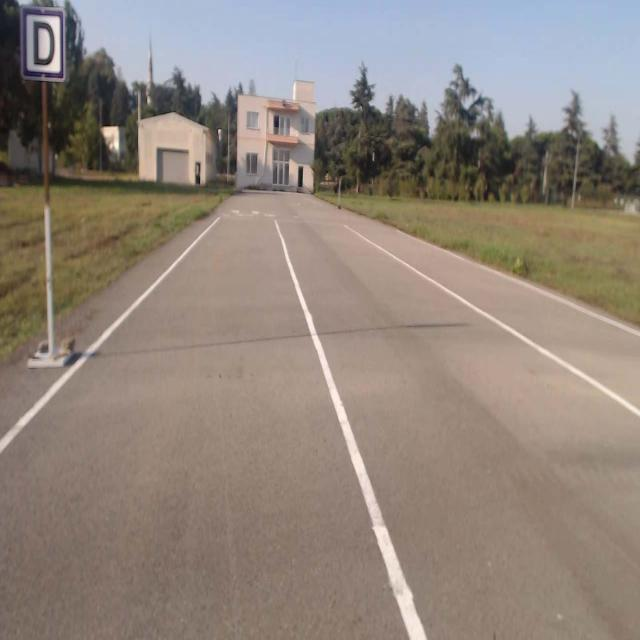durak: (19, 6, 65, 82)
